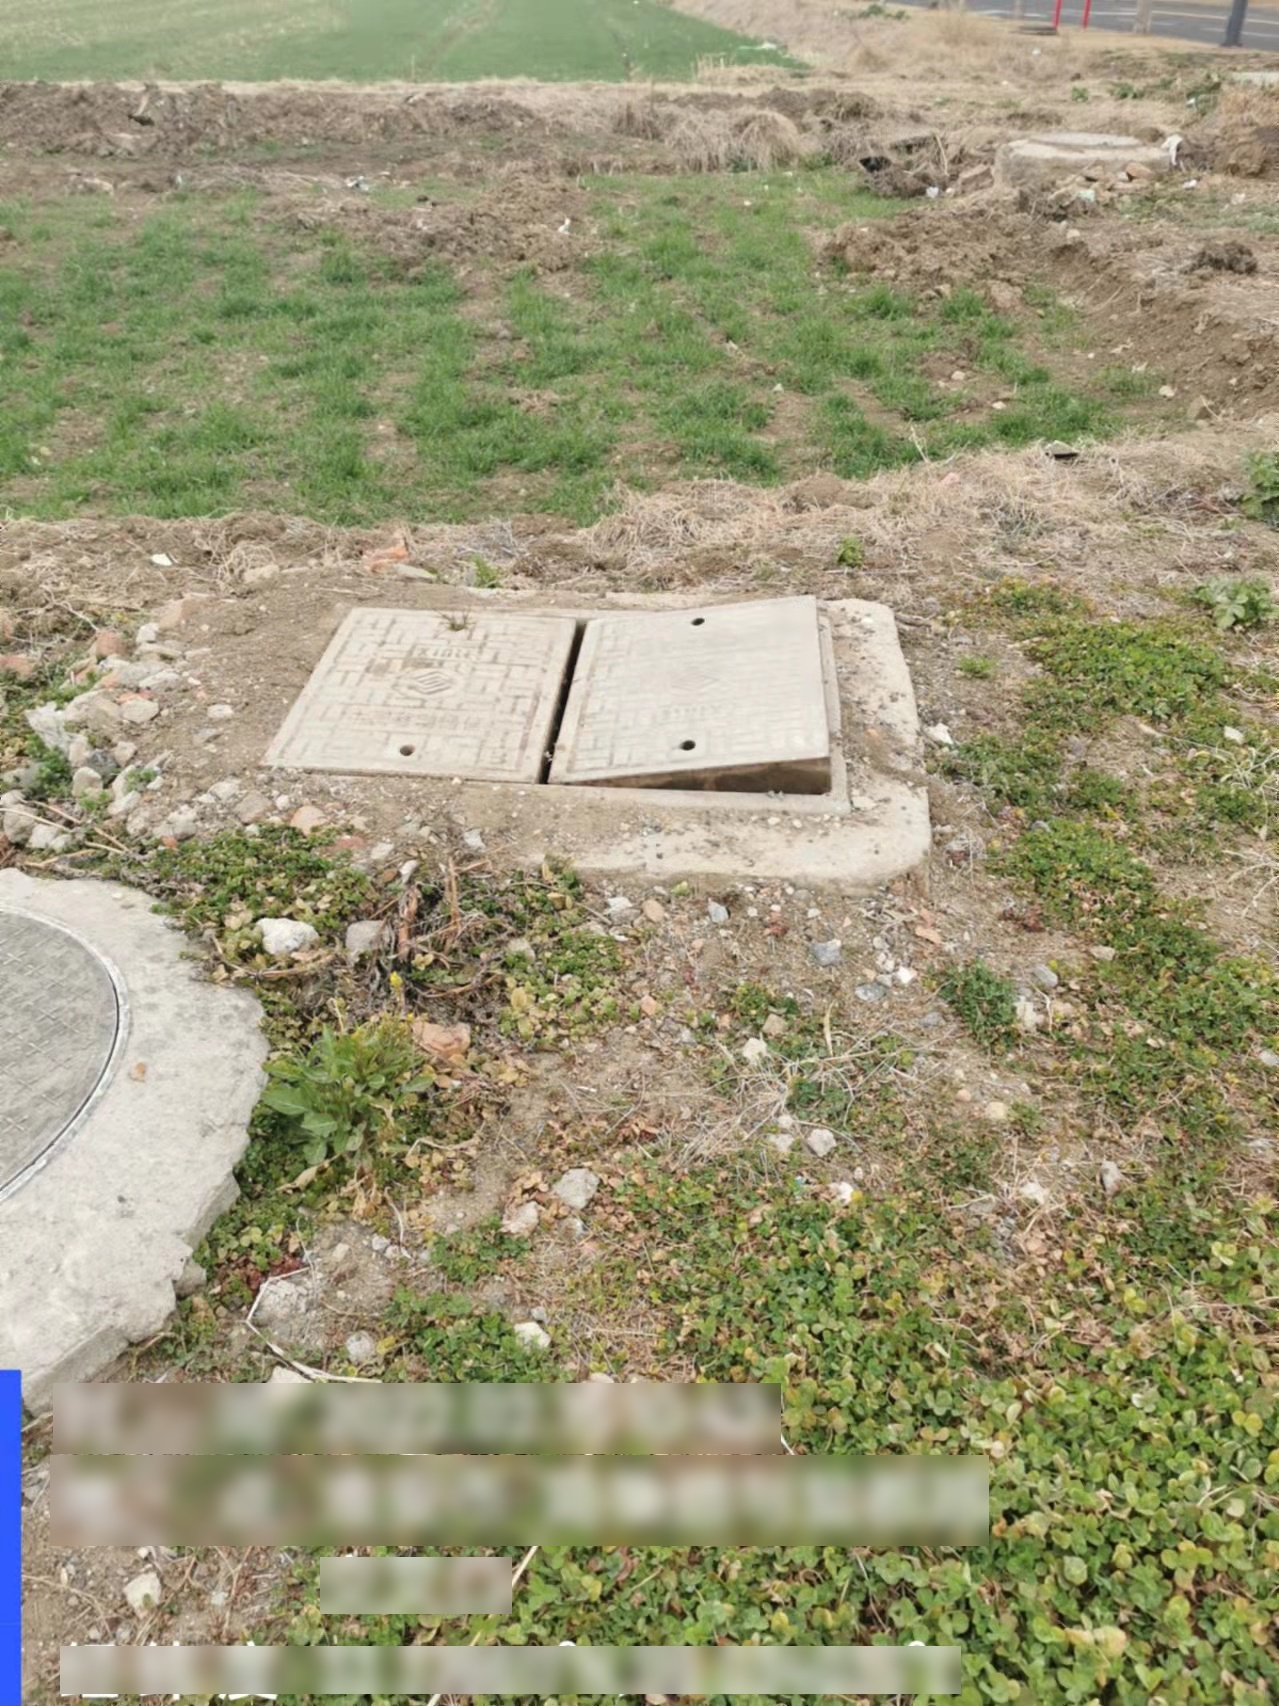uncovered: (258, 588, 846, 813)
